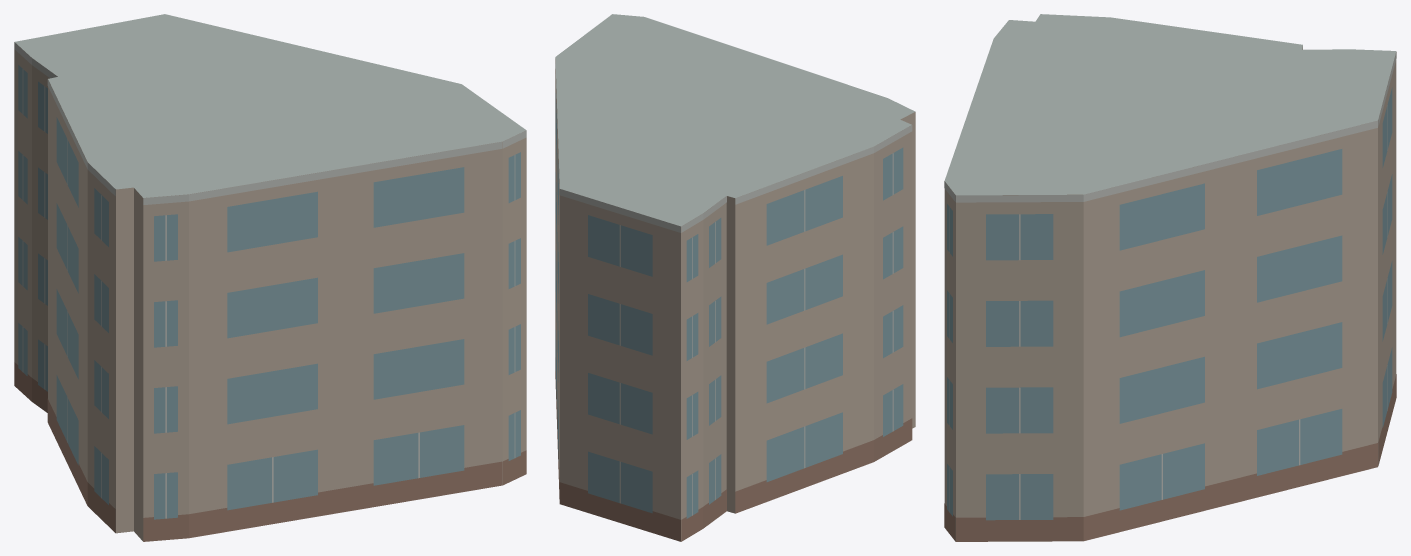
Rendered from survey-upis-32783033.glb.
The picture shows the model from 3 angles, left to right: view 1: azimuth 30°, elevation 25°; view 2: azimuth 150°, elevation 25°; view 3: azimuth 270°, elevation 25°; orthographic projection. The views are drawn at different scales.
Parts seen in each view (by area): view 1: survey-upis-32783033.tmp; view 2: survey-upis-32783033.tmp; view 3: survey-upis-32783033.tmp.
Part boxes in pixels (box(x1,y1,x2,y2)): survey-upis-32783033.tmp: box(14, 14, 526, 541); survey-upis-32783033.tmp: box(555, 14, 915, 541); survey-upis-32783033.tmp: box(944, 14, 1396, 541).
Size of the model in its own units: 13.13 by 11.69 by 13.83.
